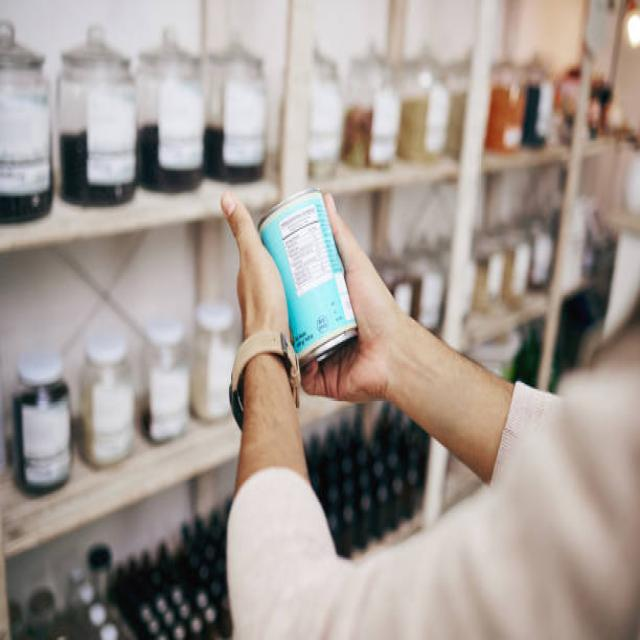article: (258, 191, 357, 365)
hands: (303, 195, 511, 480), (222, 191, 287, 336), (238, 355, 302, 489)
